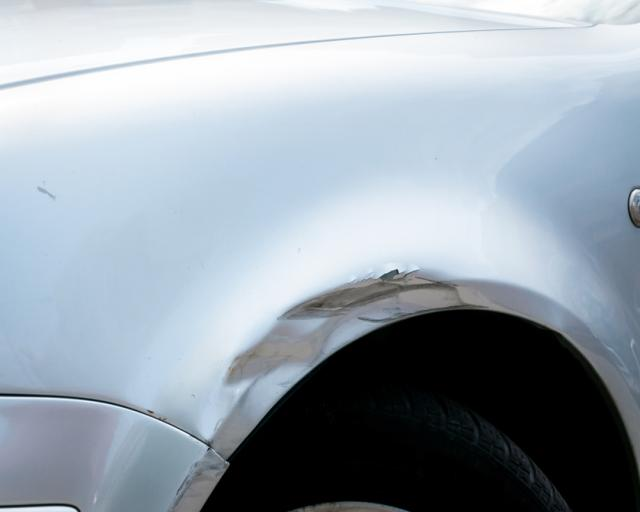dent: (203, 271, 468, 451)
scratch: (169, 451, 229, 510)
